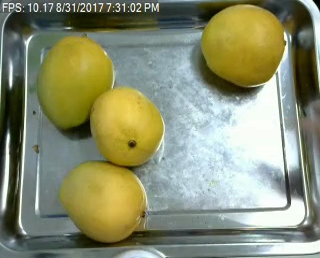Mango: (36, 36, 113, 129), (200, 4, 284, 86), (60, 162, 146, 242), (89, 88, 164, 165)
